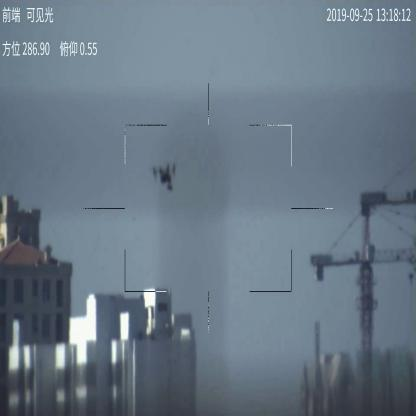uav: (151, 163, 176, 190)
